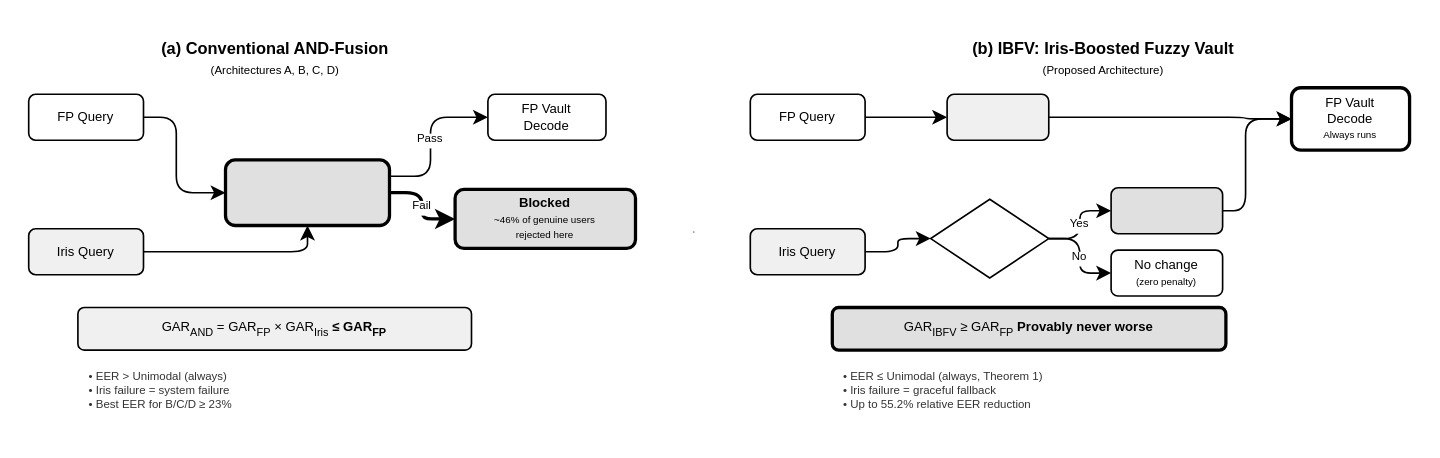
Image size: 1440x458. Some labels were removed from this diagram. Each missing label, with the centre of its shape:
"+ K bonus points" belongs at point 1166,210.
"Iris Gate Must pass before FP vault is unlocked" belongs at point 306,191.
"Key recovered?" belongs at point 989,238.
"|X FP | FP points" belongs at point 997,116.
